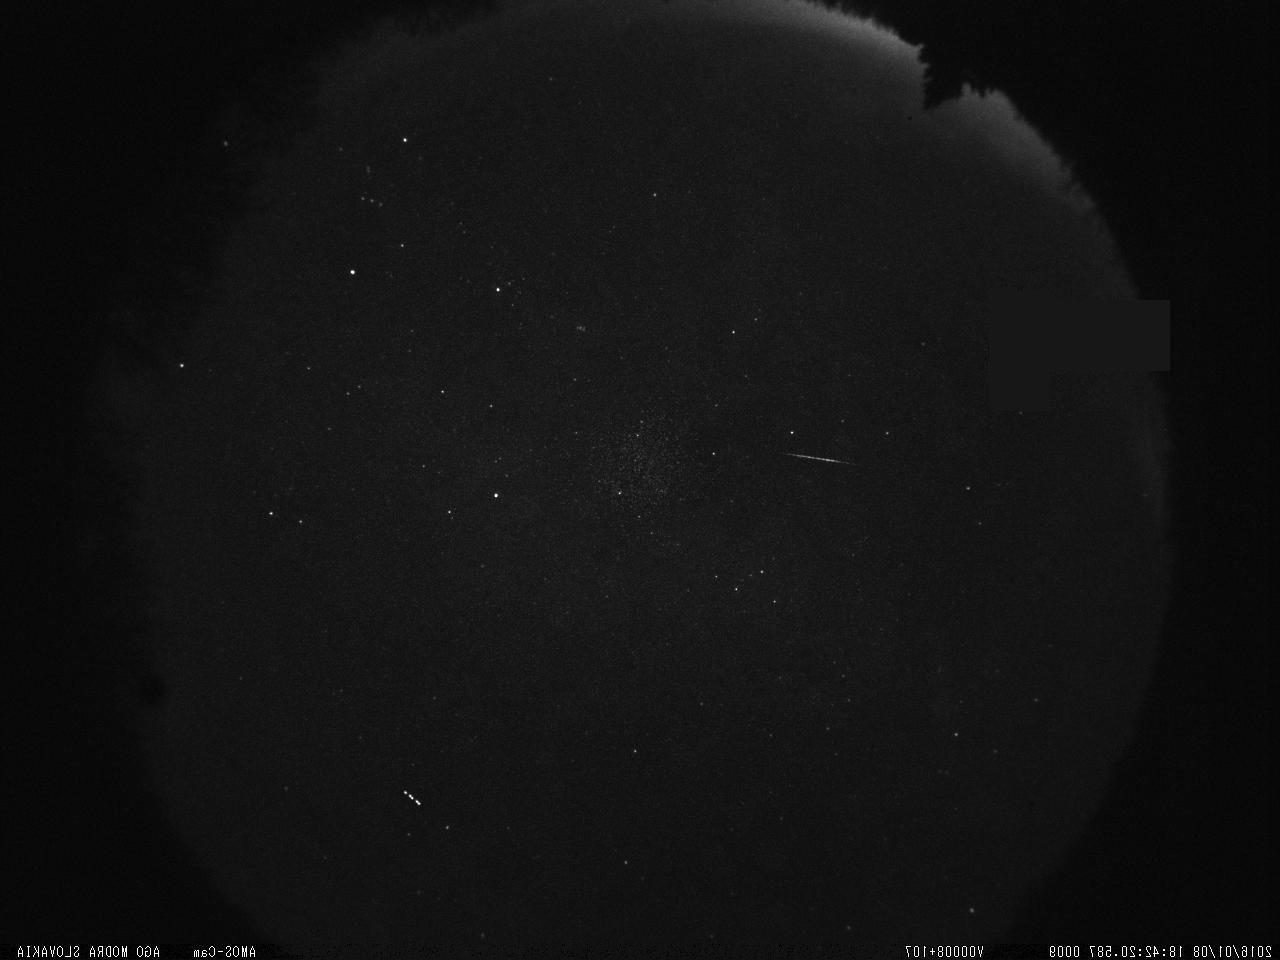meteor: (772, 446, 871, 479)
